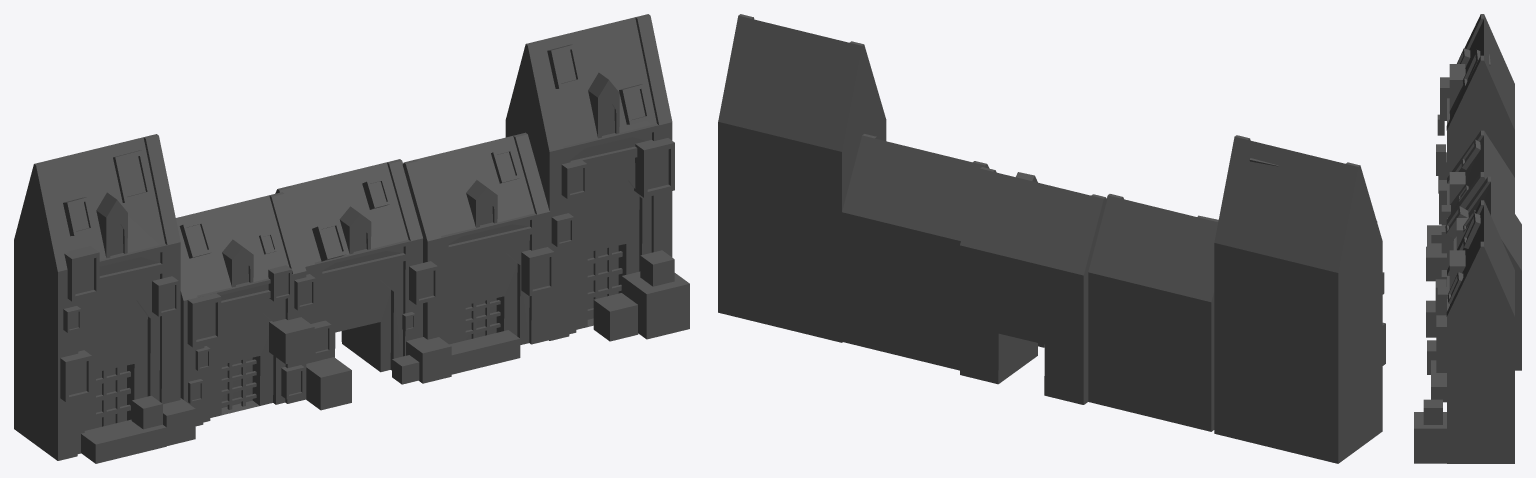
File: bossfiled2.obj
3 renders of one model, left to right at view 1: azimuth 30°, elevation 25°; view 2: azimuth 150°, elevation 25°; view 3: azimuth 270°, elevation 25°, orthographic. The views are drawn at different scales.
Parts seen in each view (by area): view 1: 立方体.003_立方体.006; view 2: 立方体.003_立方体.006; view 3: 立方体.003_立方体.006.
Boxes of the visible parts, box(x1,y1,x2,y2) form: 立方体.003_立方体.006: box(14, 14, 689, 463); 立方体.003_立方体.006: box(718, 14, 1385, 463); 立方体.003_立方体.006: box(1414, 14, 1521, 463).
Bounding box in the file's own units: 29.36 × 12.9 × 5.75.
1 material, 1 textured.
